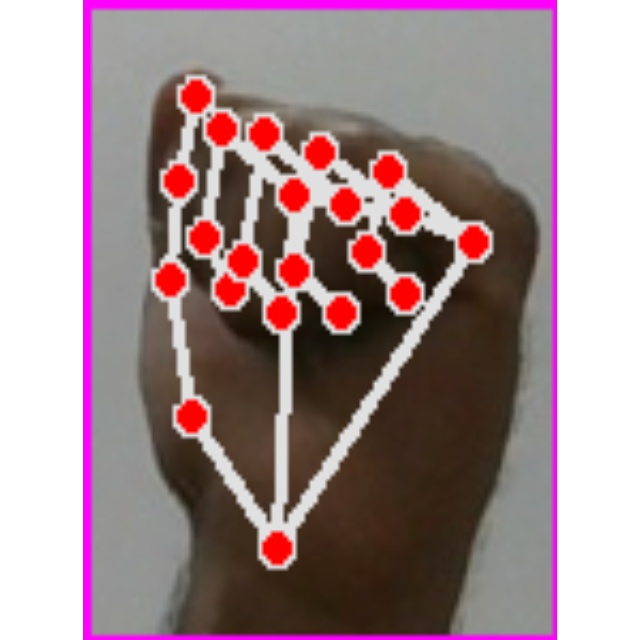A: (83, 0, 557, 640)
